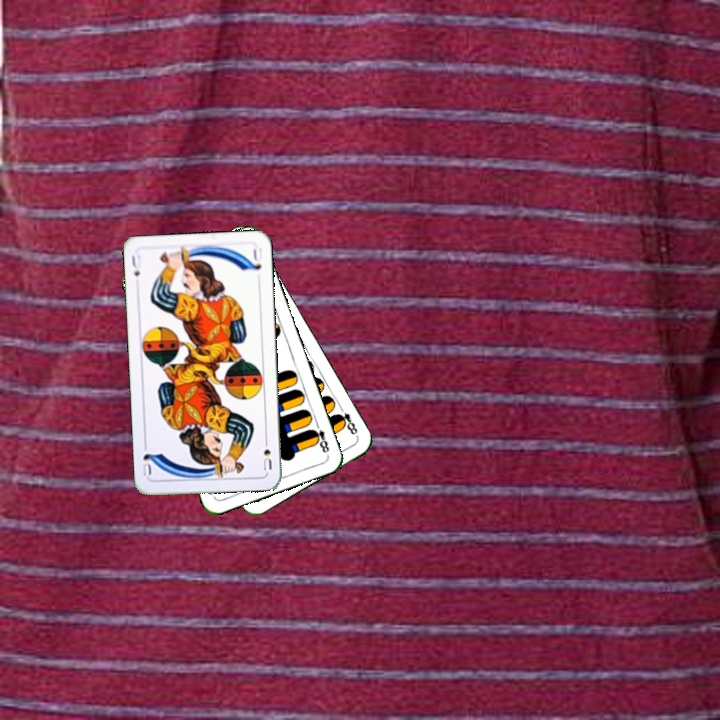E8: (333, 402, 360, 439), (308, 418, 332, 455)
SU: (259, 433, 274, 474), (127, 251, 144, 279)
